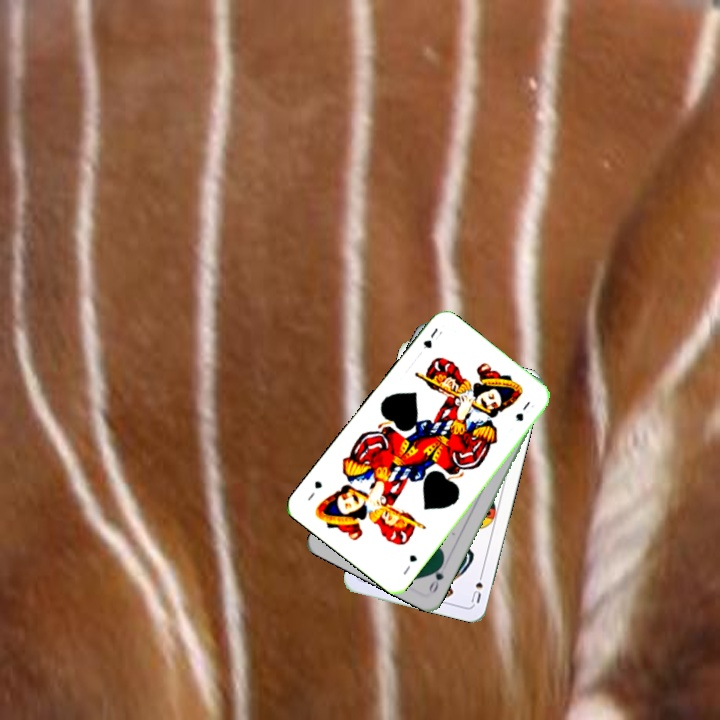GO: (425, 557, 446, 596)
GU: (419, 324, 445, 351), (399, 551, 420, 577)
SU: (467, 567, 486, 606)
